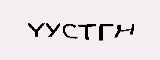В: (48, 21, 61, 40)
Е: (87, 24, 106, 46)
Л: (104, 24, 131, 49)
Т: (34, 20, 47, 34)
Ш: (61, 23, 86, 45)
